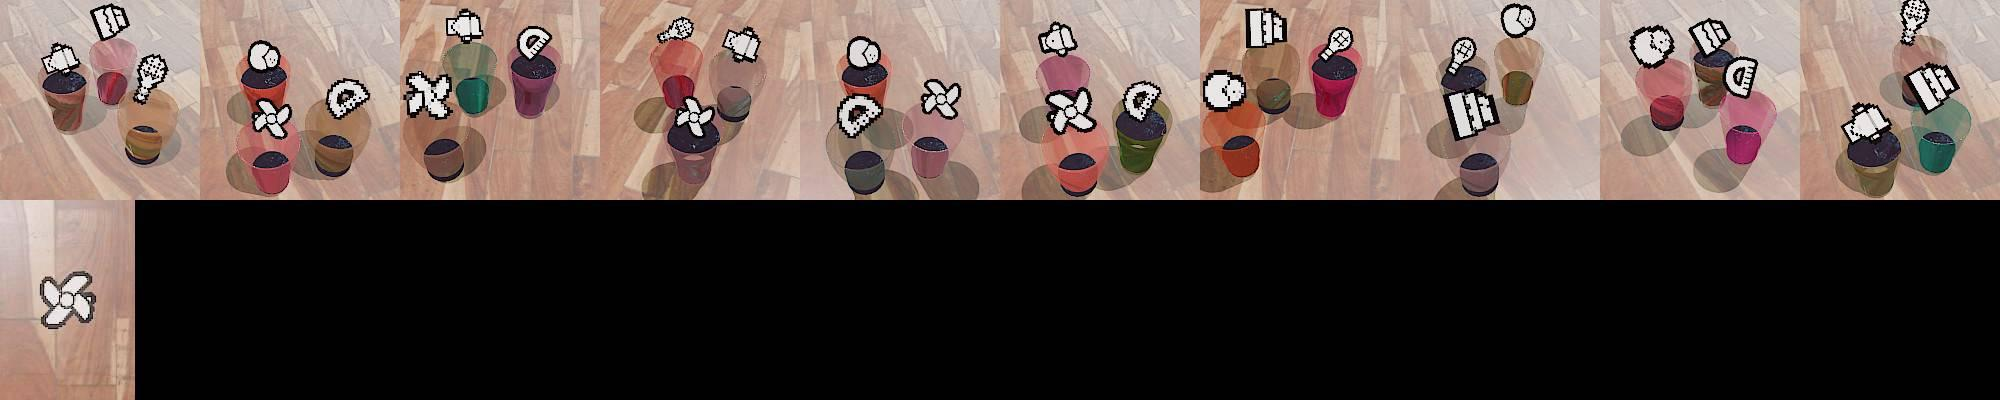icon: (36, 271, 97, 329), (1441, 88, 1500, 141), (1902, 62, 1960, 113), (403, 70, 454, 120), (1043, 87, 1096, 134), (1842, 101, 1894, 145), (835, 92, 883, 139), (1628, 24, 1675, 69), (131, 54, 170, 104), (325, 78, 371, 120), (1245, 6, 1288, 48), (1203, 69, 1245, 111), (1121, 80, 1162, 124), (920, 78, 962, 118), (251, 97, 292, 139), (673, 93, 716, 134), (1689, 19, 1732, 59), (89, 3, 130, 42), (721, 25, 761, 64), (1723, 56, 1759, 99), (1898, 0, 1930, 46), (1316, 25, 1353, 62), (1038, 20, 1077, 56), (445, 8, 483, 43), (846, 36, 883, 71), (1500, 3, 1537, 38), (43, 42, 82, 76), (517, 24, 552, 60), (1444, 37, 1477, 74), (247, 39, 283, 73), (656, 15, 695, 43)
